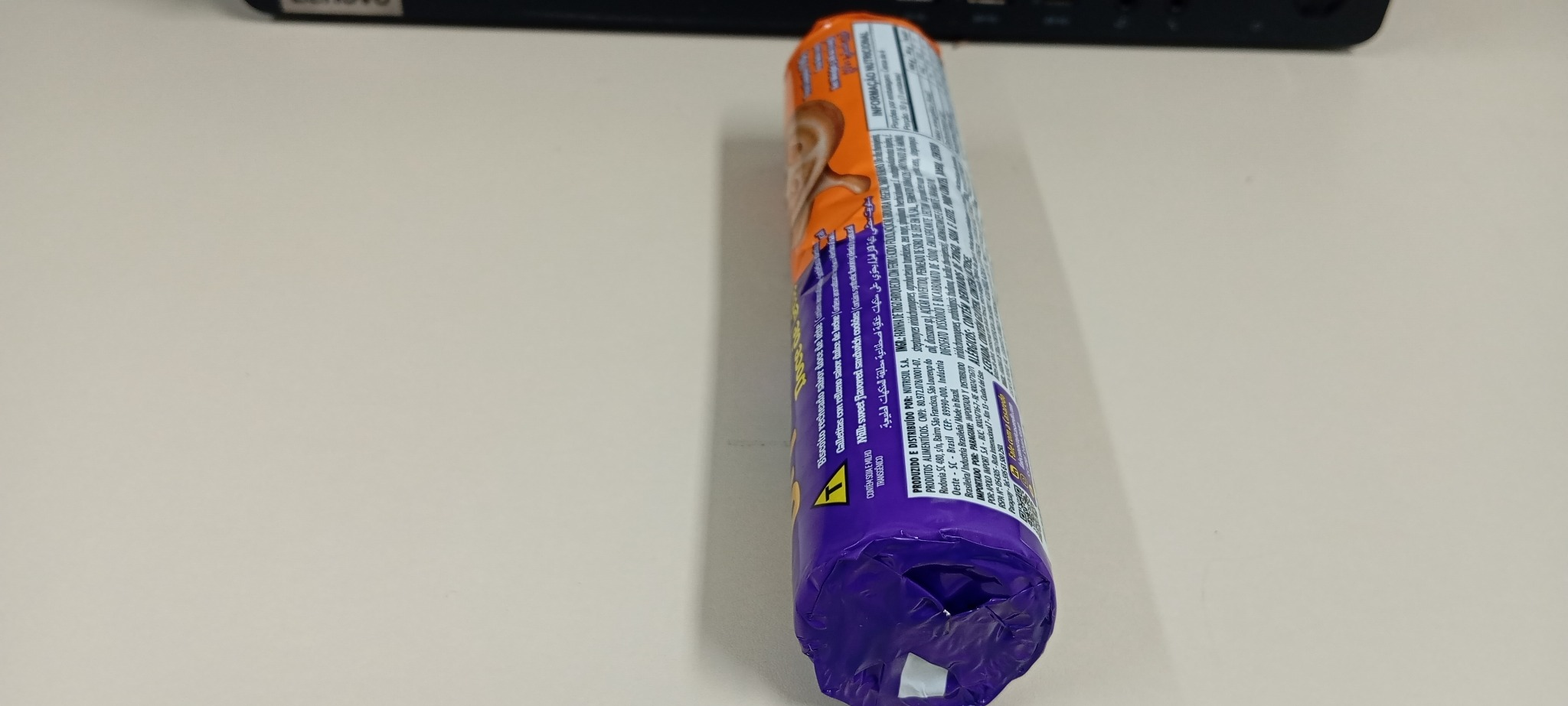my_bit_doce_leite: (738, 14, 1067, 706)
